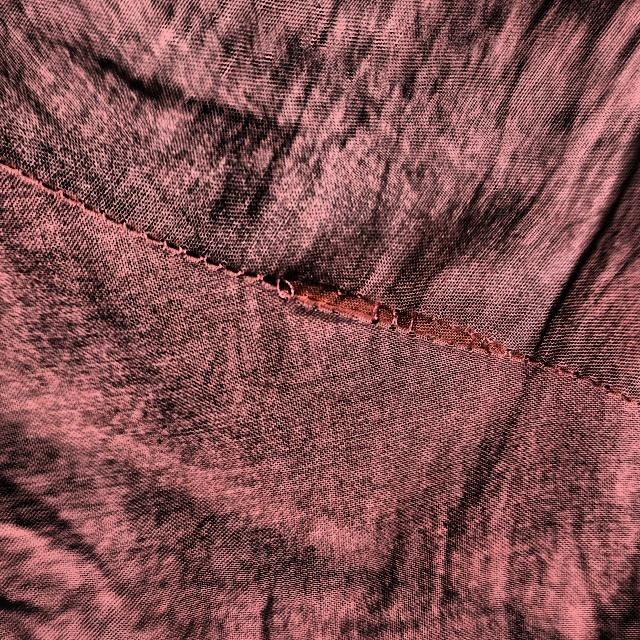seam: (247, 249, 518, 406)
